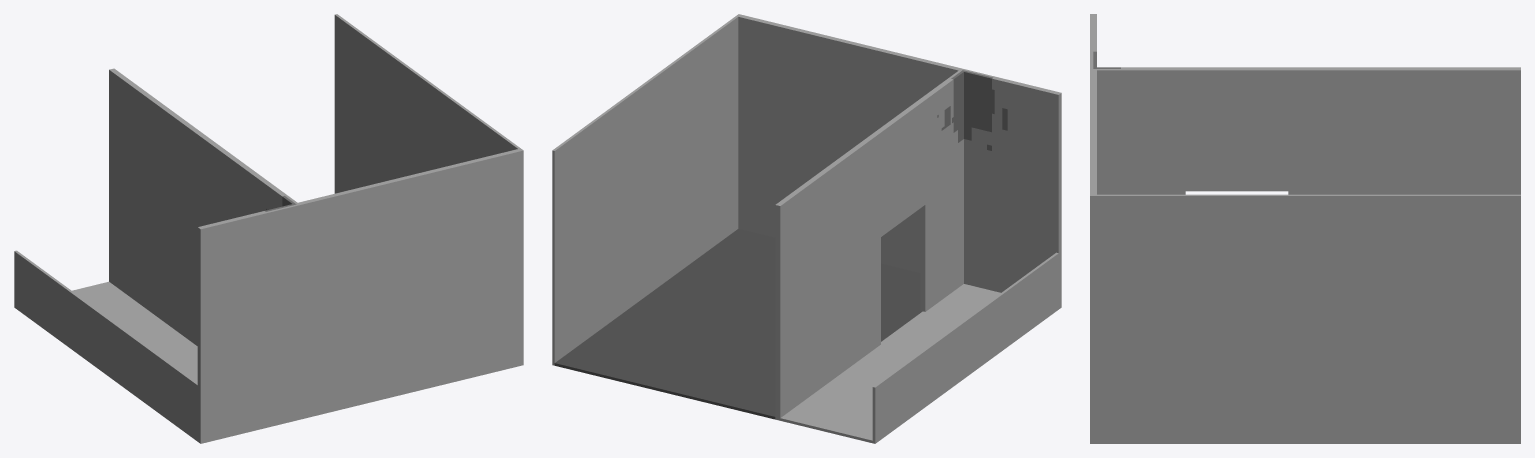
Rendered from 4x2 second-1.obj.
3 renders of one model, left to right at view 1: azimuth 30°, elevation 25°; view 2: azimuth 150°, elevation 25°; view 3: azimuth 270°, elevation 25°, orthographic. The views are drawn at different scales.
Parts seen in each view (by area): view 1: 4x2 second-1; view 2: 4x2 second-1; view 3: 4x2 second-1.
Part boxes in pixels (left/top/right/bottom): 4x2 second-1: left=14, top=14, right=523, bottom=443; 4x2 second-1: left=552, top=14, right=1061, bottom=443; 4x2 second-1: left=1090, top=14, right=1520, bottom=443.
Bounding box in the file's own units: 126 × 80 × 126.
Materials: 1 (1 with a texture image).
